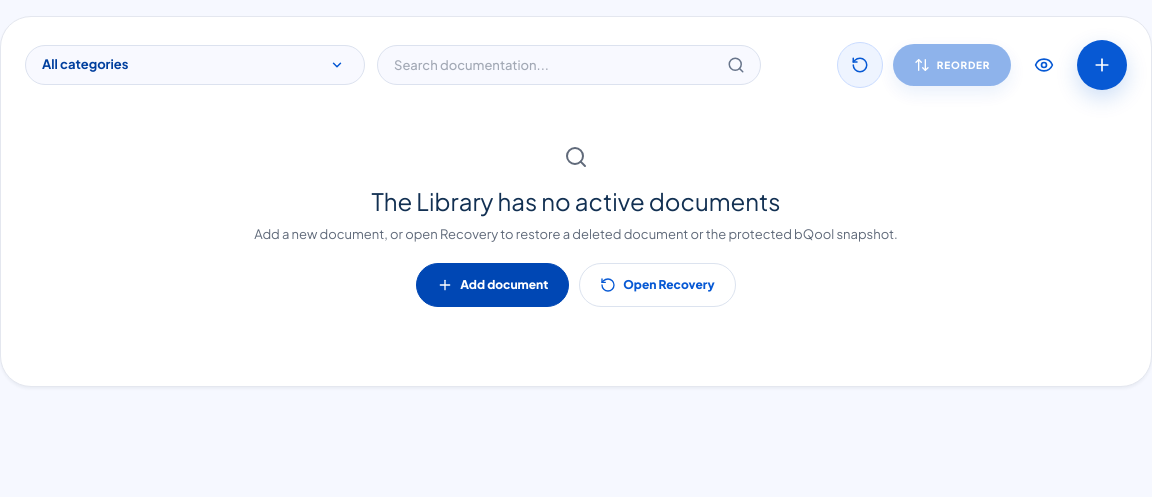
Test: catalog hydration › shows the authoritative empty Library state and keeps Recovery available to ADMIN
The image size is (1152, 497).
Check: the heading "The Library has no active documents" is shown, box [372,183,780,219]
Click the button named "Manage library" at (1044, 65), box [1021,42,1067,88]
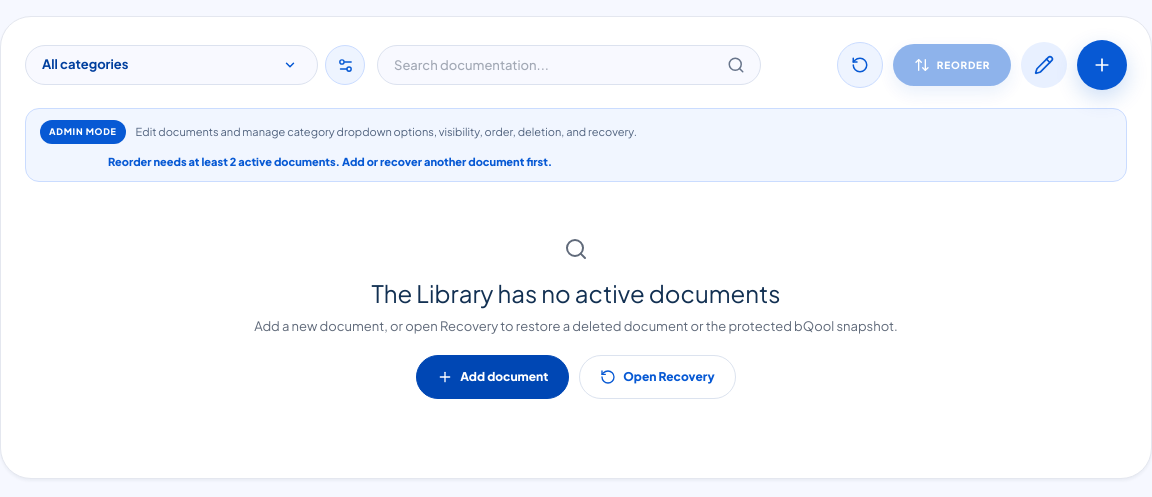
Check: the button named "Open document recovery" is enabled, box [837,42,883,88]
Check: the text "Reorder needs at least 2 active documents. Add or recover another document first." is shown, box [108,154,552,168]
